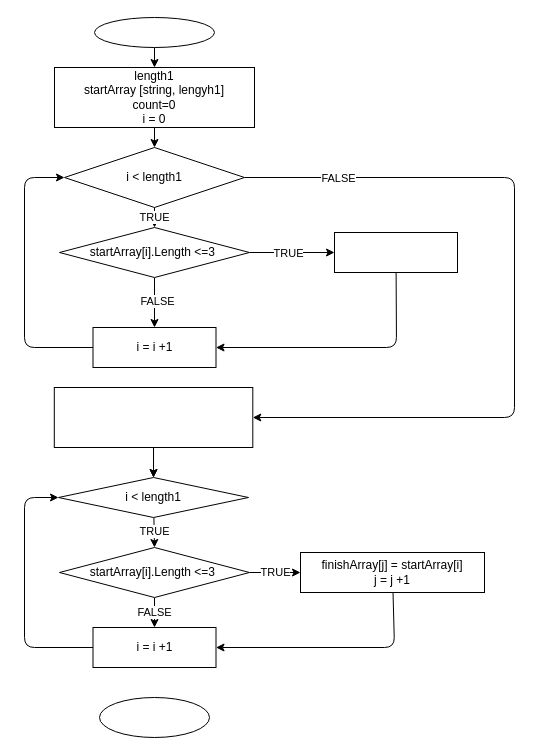
The diagram is 540 pixels wide and 755 high, and some of its shapes have lost their labels. Here are the shapes that lost their labels. From the top down, the centre of each, then its label:
At (154,32): "Start".
At (396,252): "count = count +1".
At (153,417): "finishArray [string, count] j=0".
At (154,717): "Finish".
